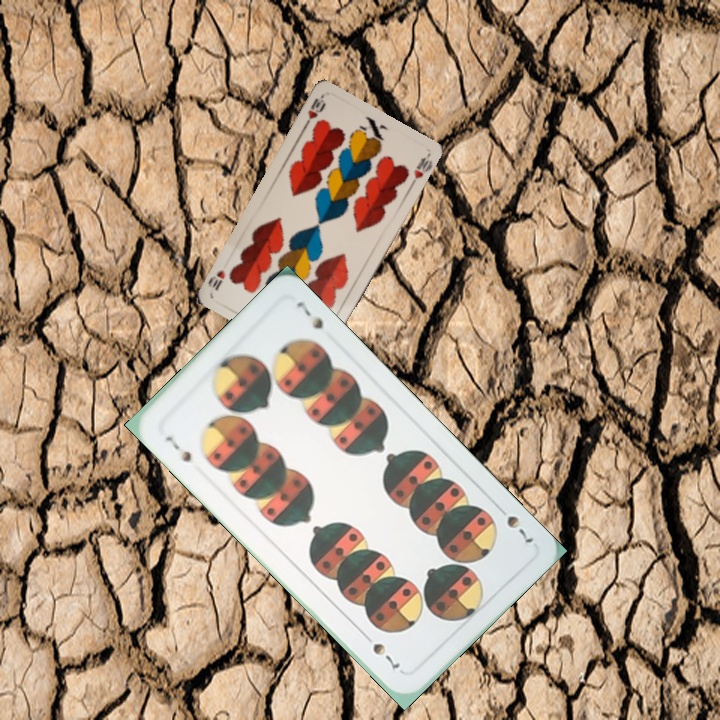H10: (300, 93, 328, 130)
S7: (492, 500, 536, 548), (161, 431, 194, 465)
